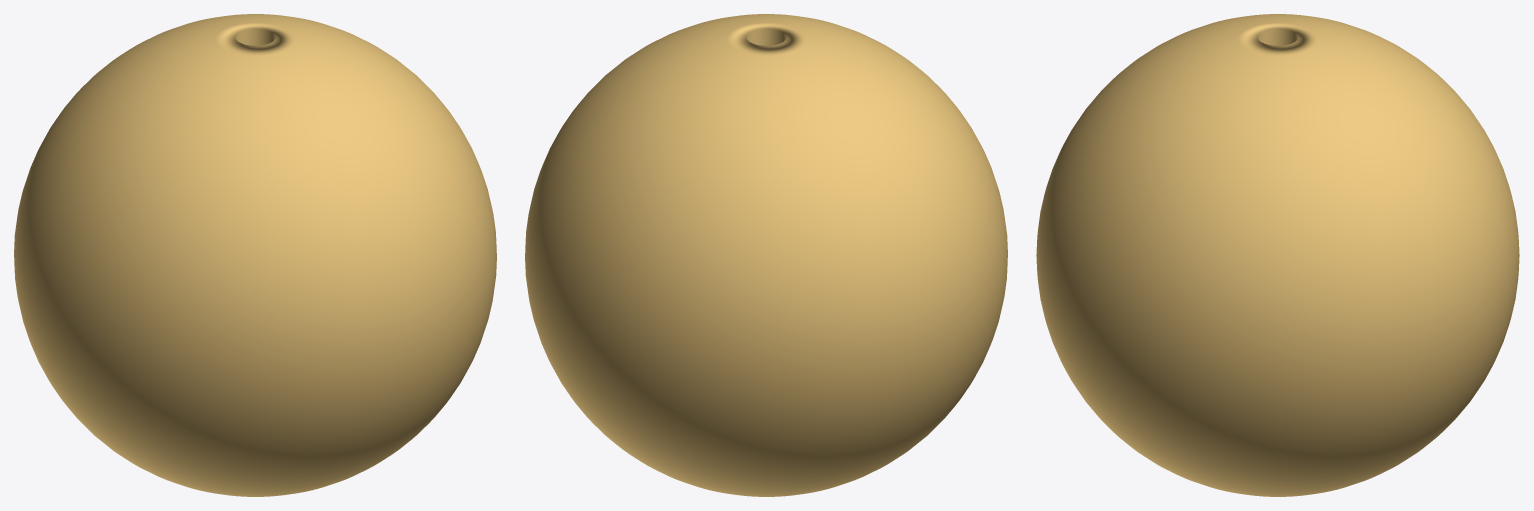
The model's file is spacer-01-gold-12mm.glb.
3 renders of one model, left to right at view 1: azimuth 30°, elevation 25°; view 2: azimuth 150°, elevation 25°; view 3: azimuth 270°, elevation 25°, orthographic.
Visible parts, largest first — view 1: Spacer with through bore; view 2: Spacer with through bore; view 3: Spacer with through bore.
Boxes of the visible parts, x1,y1,x2,y2 form: Spacer with through bore: [14, 14, 496, 496]; Spacer with through bore: [525, 14, 1007, 496]; Spacer with through bore: [1036, 14, 1519, 496].
Bounding box in the file's own units: 0.012 × 0.012 × 0.012.
